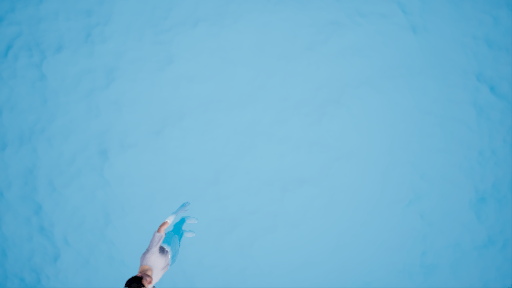person: (125, 200, 191, 287)
